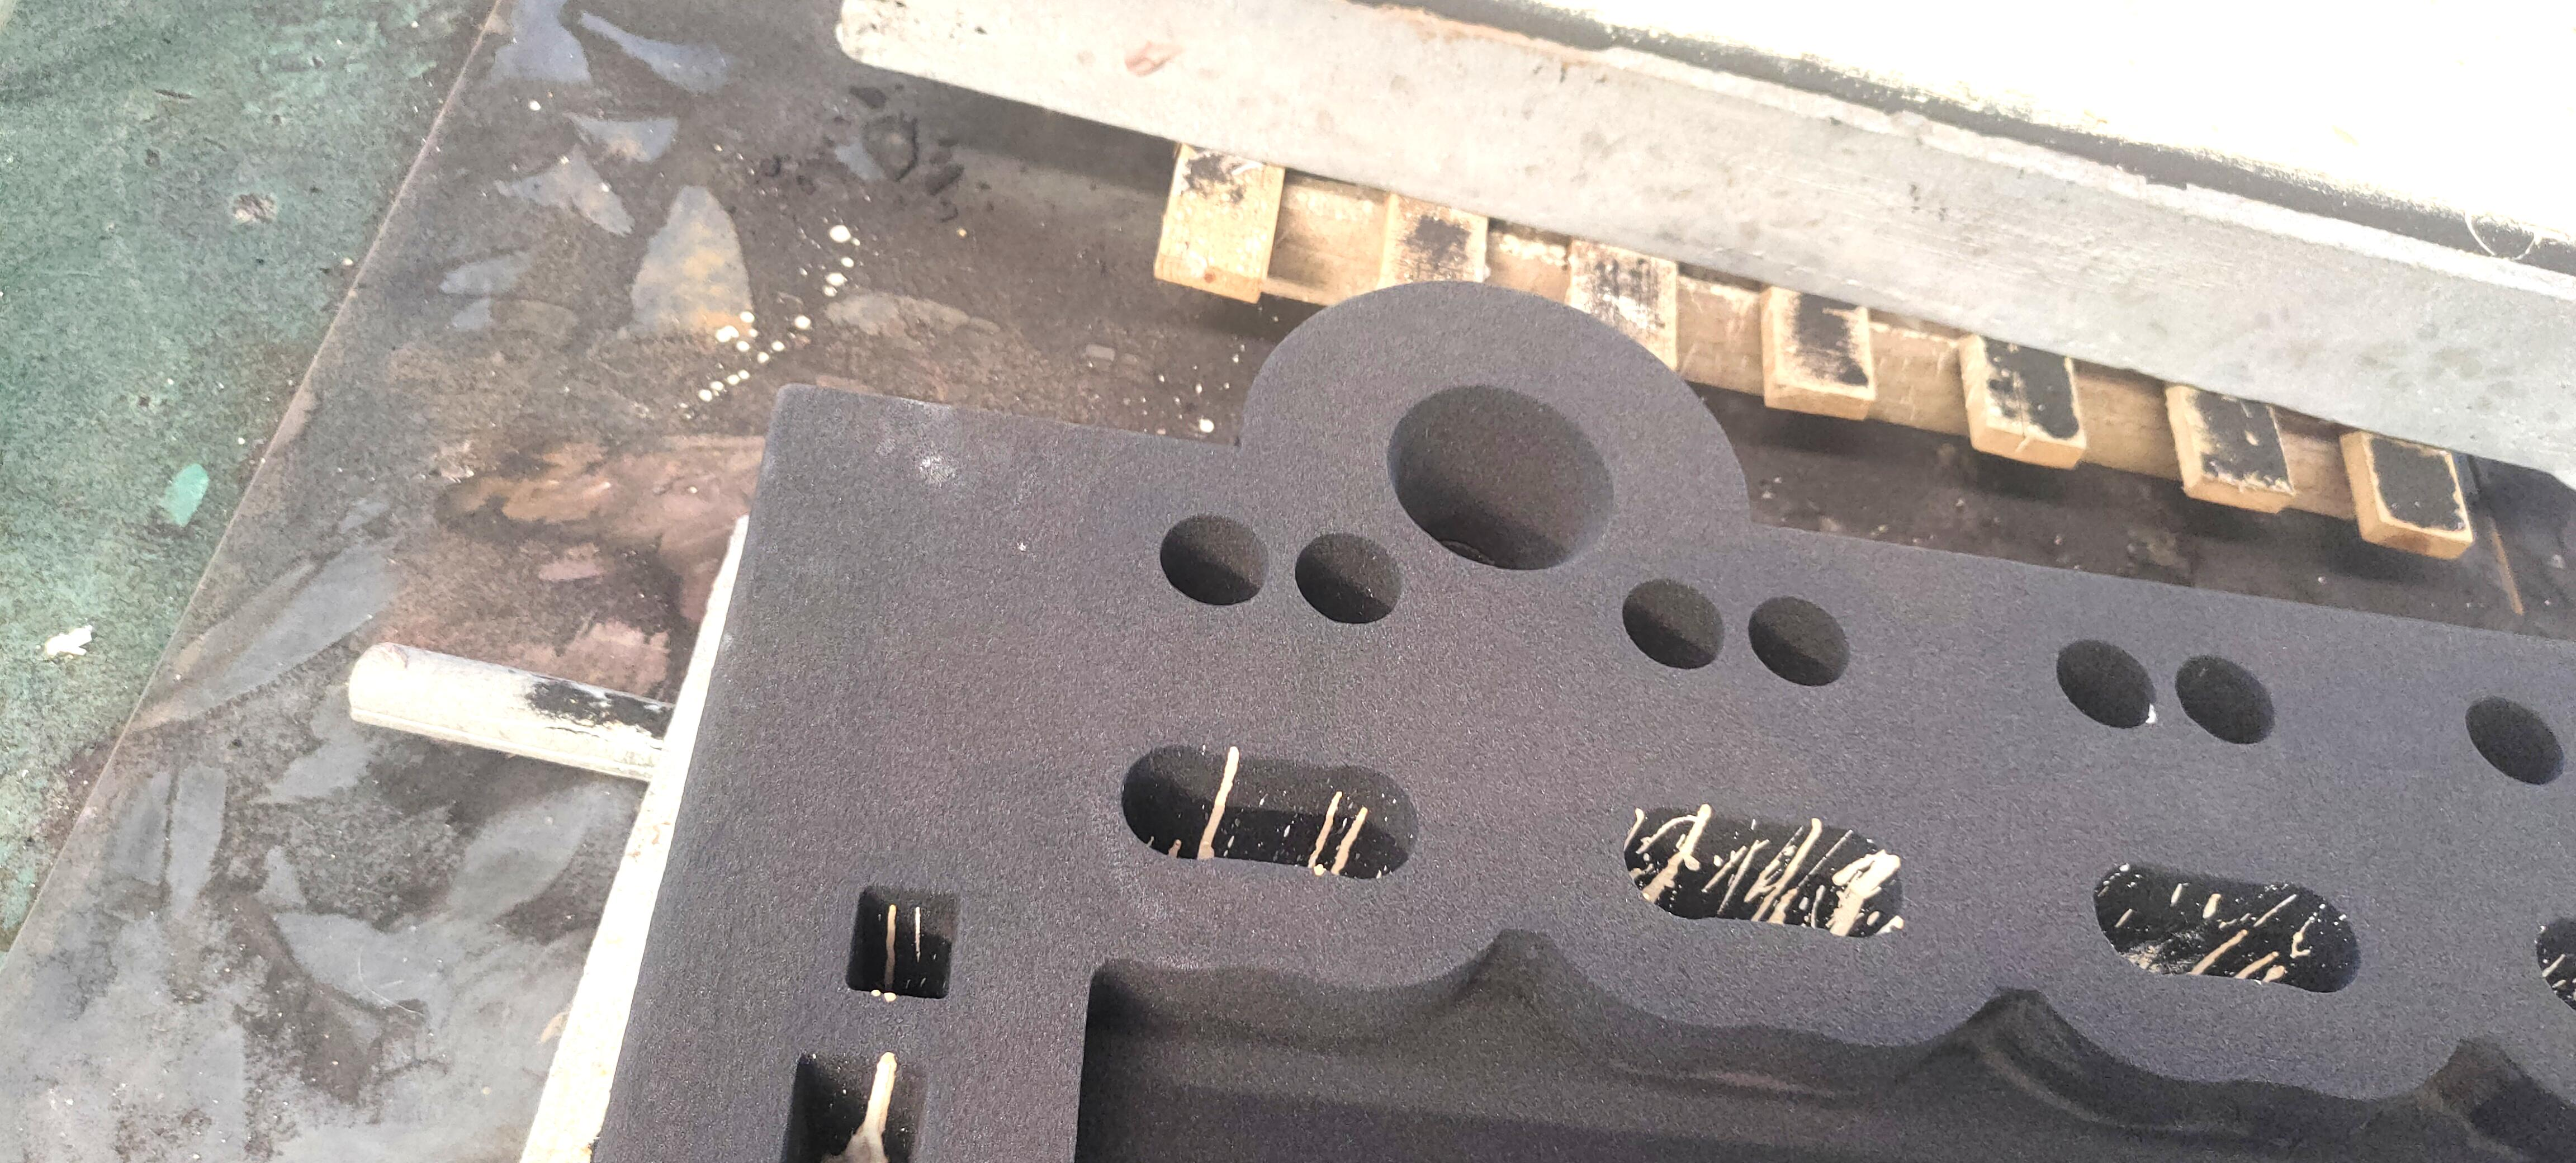pouring hole: (1385, 381, 1617, 573)
